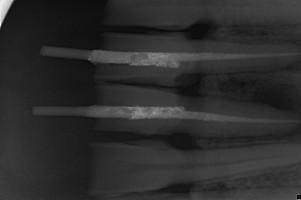Furcation Involvement: (248, 82, 301, 139)
